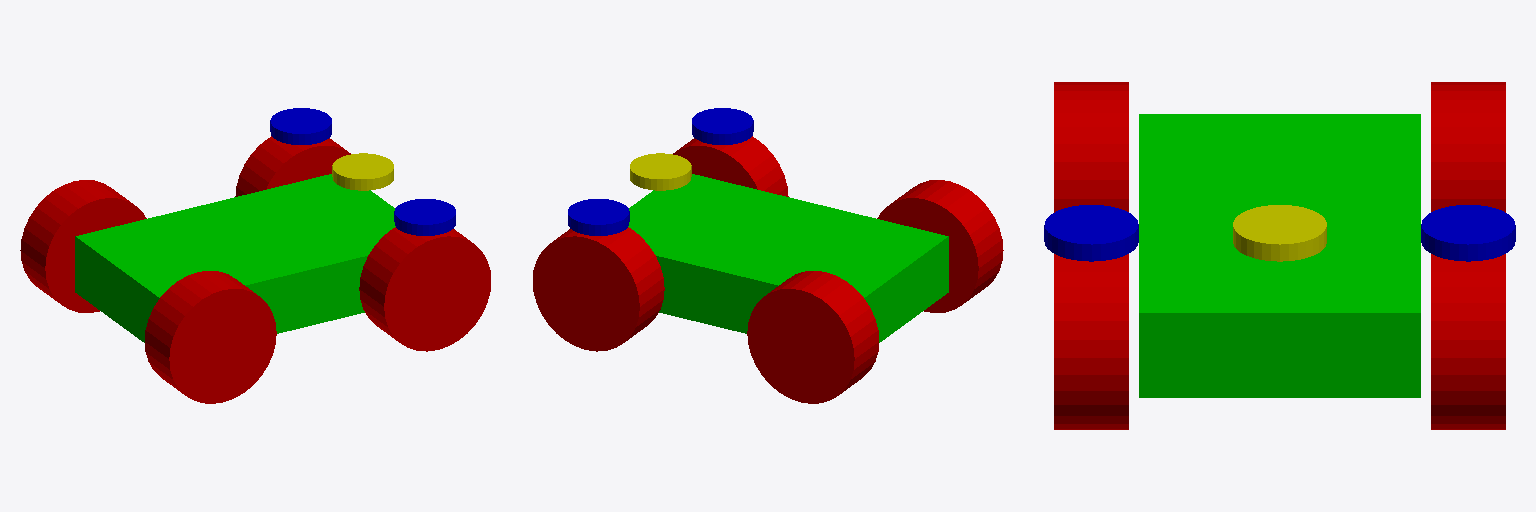
URDF robot description (steer_bot):
<?xml version="1.0" encoding="utf-8"?>
<!-- =================================================================================== -->
<!-- |    This document was autogenerated by xacro from [local-path]/github/steerbot_ws/src/steer_bot/steer_bot_description/urdf/steer_bot.urdf.xacro | -->
<!-- |    EDITING THIS FILE BY HAND IS NOT RECOMMENDED                                 | -->
<!-- =================================================================================== -->
<!--
  Robot model adapted from https://github.com/CIR-KIT/steer_drive_ros/blob/kinetic-devel/steer_drive_controller/test/common/urdf/steerbot.xacro

  Modifications:
    Remove base_footprint link. Useful for navigation but not necessary for a simple example.
    Added materials for URDF
    Updated inertials

  Geometry:
    The Ackermann steering controllers require the longitudinal
    separation between the front and back wheel axes and the
    lateral separation between the left and right front steering axes.
    
    For this model:
    wheel_separation_h = base_length - 2 * axle_offset = 0.4
    wheel_separation_w = base_width  + 2 * axle_offset = 0.4
-->
<robot name="steer_bot">
  <material name="red">
    <color rgba="0.8 0 0 1"/>
  </material>
  <material name="green">
    <color rgba="0 0.8 0 1"/>
  </material>
  <material name="blue">
    <color rgba="0 0 0.8 1"/>
  </material>
  <material name="yellow">
    <color rgba="0.8 0.8 0 1"/>
  </material>
  <material name="orange">
    <color rgba="0.8 0.25 0 1"/>
  </material>
  <material name="black">
    <color rgba="0 0 0 1"/>
  </material>
  <material name="dark_gray">
    <color rgba="0.5 0.5 0.5 1"/>
  </material>
  <material name="gray">
    <color rgba="0.753 0.753 0.753 1"/>
  </material>
  <material name="silver">
    <color rgba="0.88 0.88 0.88 1"/>
  </material>
  <material name="white">
    <color rgba="1 1 1 1"/>
  </material>
  <!-- Gazebo plugins -->
  <gazebo>
    <!-- Load ros_control plugin using the steer_bot_hardware_gazebo
    implementation of the hardware_interface::RobotHW -->
    <plugin filename="libgazebo_ros_control.so" name="gazebo_ros_control">
      <robotNamespace>/steer_bot</robotNamespace>
      <robotSimType>steer_bot_hardware_gazebo/SteerBotHardwareGazebo</robotSimType>
      <legacyModeNS>false</legacyModeNS>
    </plugin>
  </gazebo>
  <!-- Base link -->
  <link name="base_link">
    <visual>
      <origin rpy="0 0 0" xyz="0 0 0"/>
      <geometry>
        <box size="0.5 0.3 0.1"/>
      </geometry>
      <material name="green"/>
    </visual>
    <collision>
      <origin rpy="0 0 0" xyz="0 0 0"/>
      <geometry>
        <box size="0.5 0.3 0.1"/>
      </geometry>
    </collision>
    <inertial>
      <origin rpy="0 0 0" xyz="0 0 0"/>
      <mass value="5"/>
      <inertia ixx="0.0416666666667" ixy="0.0" ixz="0.0" iyy="0.108333333333" iyz="0.0" izz="0.141666666667"/>
    </inertial>
  </link>
  <link name="front_steer_link">
    <visual>
      <origin rpy="0 0 0" xyz="0 0 0"/>
      <geometry>
        <cylinder length="0.02" radius="0.05"/>
      </geometry>
      <material name="yellow"/>
    </visual>
    <collision>
      <origin rpy="0 0 0" xyz="0 0 0"/>
      <geometry>
        <cylinder length="0.02" radius="0.05"/>
      </geometry>
    </collision>
    <inertial>
      <origin rpy="0 0 0" xyz="0 0 0"/>
      <mass value="1"/>
      <inertia ixx="0.000658333333333" ixy="0.0" ixz="0.0" iyy="0.000658333333333" iyz="0.0" izz="0.00125"/>
    </inertial>
  </link>
  <joint name="front_steer_joint" type="revolute">
    <parent link="base_link"/>
    <child link="front_steer_link"/>
    <origin rpy="0 0 0" xyz="0.2 0 0.12"/>
    <axis xyz="0 0 1"/>
    <limit effort="10.0" lower="-3.14159265359" upper="3.14159265359" velocity="5.0"/>
  </joint>
  <transmission name="front_steer_joint_trans">
    <type>transmission_interface/SimpleTransmission</type>
    <actuator name="front_steer_joint_motor">
      <mechanicalReduction>1</mechanicalReduction>
      <hardwareInterface>hardware_interface/PositionJointInterface</hardwareInterface>
    </actuator>
    <joint name="front_steer_joint">
      <hardwareInterface>hardware_interface/PositionJointInterface</hardwareInterface>
    </joint>
  </transmission>
  <gazebo reference="front_steer_link">
    <material>Gazebo/Yellow</material>
  </gazebo>
  <link name="rear_wheel_link">
    <visual>
      <origin rpy="0 0 0" xyz="0 0 0"/>
      <geometry>
        <cylinder length="0.04" radius="0.025"/>
      </geometry>
      <material name="yellow"/>
    </visual>
    <collision>
      <origin rpy="0 0 0" xyz="0 0 0"/>
      <geometry>
        <cylinder length="0.04" radius="0.025"/>
      </geometry>
    </collision>
    <inertial>
      <origin rpy="0 0 0" xyz="0 0 0"/>
      <mass value="0.03125"/>
      <inertia ixx="9.04947916667e-06" ixy="0.0" ixz="0.0" iyy="9.04947916667e-06" iyz="0.0" izz="9.765625e-06"/>
    </inertial>
  </link>
  <joint name="rear_wheel_joint" type="continuous">
    <parent link="base_link"/>
    <child link="rear_wheel_link"/>
    <origin rpy="-1.57079632679 0 0" xyz="-0.2 0 0"/>
    <axis xyz="0 0 1"/>
  </joint>
  <transmission name="rear_wheel_joint_trans">
    <type>transmission_interface/SimpleTransmission</type>
    <actuator name="rear_wheel_joint_motor">
      <mechanicalReduction>1</mechanicalReduction>
      <hardwareInterface>hardware_interface/VelocityJointInterface</hardwareInterface>
    </actuator>
    <joint name="rear_wheel_joint">
      <hardwareInterface>hardware_interface/VelocityJointInterface</hardwareInterface>
    </joint>
  </transmission>
  <gazebo reference="rear_wheel_link">
    <material>Gazebo/Yellow</material>
  </gazebo>
  <link name="front_right_steer_link">
    <visual>
      <origin rpy="0 0 0" xyz="0 0 0"/>
      <geometry>
        <cylinder length="0.02" radius="0.05"/>
      </geometry>
      <material name="blue"/>
    </visual>
    <collision>
      <origin rpy="0 0 0" xyz="0 0 0"/>
      <geometry>
        <cylinder length="0.02" radius="0.05"/>
      </geometry>
    </collision>
    <inertial>
      <origin rpy="0 0 0" xyz="0 0 0"/>
      <mass value="1"/>
      <inertia ixx="0.000658333333333" ixy="0.0" ixz="0.0" iyy="0.000658333333333" iyz="0.0" izz="0.00125"/>
    </inertial>
  </link>
  <joint name="front_right_steer_joint" type="revolute">
    <parent link="base_link"/>
    <child link="front_right_steer_link"/>
    <origin rpy="0 0 0" xyz="0.2 -0.2 0.12"/>
    <axis xyz="0 0 1"/>
    <limit effort="10.0" lower="-0.785398163397" upper="0.785398163397" velocity="5.0"/>
  </joint>
  <link name="front_right_wheel_link">
    <visual>
      <origin rpy="0 0 0" xyz="0 0 0"/>
      <geometry>
        <cylinder length="0.08" radius="0.1"/>
      </geometry>
      <material name="red"/>
    </visual>
    <collision>
      <origin rpy="0 0 0" xyz="0 0 0"/>
      <geometry>
        <cylinder length="0.08" radius="0.1"/>
      </geometry>
    </collision>
    <inertial>
      <origin rpy="0 0 0" xyz="0 0 0"/>
      <mass value="1"/>
      <inertia ixx="0.00303333333333" ixy="0.0" ixz="0.0" iyy="0.00303333333333" iyz="0.0" izz="0.005"/>
    </inertial>
  </link>
  <joint name="front_right_wheel_joint" type="continuous">
    <parent link="front_right_steer_link"/>
    <child link="front_right_wheel_link"/>
    <origin rpy="-1.57079632679 0 0" xyz="0 0 -0.12"/>
    <axis xyz="0 0 1"/>
  </joint>
  <transmission name="front_right_steer_joint_trans">
    <type>transmission_interface/SimpleTransmission</type>
    <actuator name="front_right_steer_joint_motor">
      <mechanicalReduction>1</mechanicalReduction>
      <hardwareInterface>hardware_interface/PositionJointInterface</hardwareInterface>
    </actuator>
    <joint name="front_right_steer_joint">
      <hardwareInterface>hardware_interface/PositionJointInterface</hardwareInterface>
    </joint>
  </transmission>
  <transmission name="front_right_wheel_joint_trans">
    <type>transmission_interface/SimpleTransmission</type>
    <actuator name="front_right_wheel_joint_motor">
      <mechanicalReduction>1</mechanicalReduction>
      <hardwareInterface>hardware_interface/VelocityJointInterface</hardwareInterface>
    </actuator>
    <joint name="front_right_wheel_joint">
      <hardwareInterface>hardware_interface/VelocityJointInterface</hardwareInterface>
    </joint>
  </transmission>
  <gazebo reference="front_right_steer_link">
    <material>Gazebo/Blue</material>
  </gazebo>
  <gazebo reference="front_right_wheel_link">
    <material>Gazebo/Red</material>
  </gazebo>
  <link name="front_left_steer_link">
    <visual>
      <origin rpy="0 0 0" xyz="0 0 0"/>
      <geometry>
        <cylinder length="0.02" radius="0.05"/>
      </geometry>
      <material name="blue"/>
    </visual>
    <collision>
      <origin rpy="0 0 0" xyz="0 0 0"/>
      <geometry>
        <cylinder length="0.02" radius="0.05"/>
      </geometry>
    </collision>
    <inertial>
      <origin rpy="0 0 0" xyz="0 0 0"/>
      <mass value="1"/>
      <inertia ixx="0.000658333333333" ixy="0.0" ixz="0.0" iyy="0.000658333333333" iyz="0.0" izz="0.00125"/>
    </inertial>
  </link>
  <joint name="front_left_steer_joint" type="revolute">
    <parent link="base_link"/>
    <child link="front_left_steer_link"/>
    <origin rpy="0 0 0" xyz="0.2 0.2 0.12"/>
    <axis xyz="0 0 1"/>
    <limit effort="10.0" lower="-0.785398163397" upper="0.785398163397" velocity="5.0"/>
  </joint>
  <link name="front_left_wheel_link">
    <visual>
      <origin rpy="0 0 0" xyz="0 0 0"/>
      <geometry>
        <cylinder length="0.08" radius="0.1"/>
      </geometry>
      <material name="red"/>
    </visual>
    <collision>
      <origin rpy="0 0 0" xyz="0 0 0"/>
      <geometry>
        <cylinder length="0.08" radius="0.1"/>
      </geometry>
    </collision>
    <inertial>
      <origin rpy="0 0 0" xyz="0 0 0"/>
      <mass value="1"/>
      <inertia ixx="0.00303333333333" ixy="0.0" ixz="0.0" iyy="0.00303333333333" iyz="0.0" izz="0.005"/>
    </inertial>
  </link>
  <joint name="front_left_wheel_joint" type="continuous">
    <parent link="front_left_steer_link"/>
    <child link="front_left_wheel_link"/>
    <origin rpy="-1.57079632679 0 0" xyz="0 0 -0.12"/>
    <axis xyz="0 0 1"/>
  </joint>
  <transmission name="front_left_steer_joint_trans">
    <type>transmission_interface/SimpleTransmission</type>
    <actuator name="front_left_steer_joint_motor">
      <mechanicalReduction>1</mechanicalReduction>
      <hardwareInterface>hardware_interface/PositionJointInterface</hardwareInterface>
    </actuator>
    <joint name="front_left_steer_joint">
      <hardwareInterface>hardware_interface/PositionJointInterface</hardwareInterface>
    </joint>
  </transmission>
  <transmission name="front_left_wheel_joint_trans">
    <type>transmission_interface/SimpleTransmission</type>
    <actuator name="front_left_wheel_joint_motor">
      <mechanicalReduction>1</mechanicalReduction>
      <hardwareInterface>hardware_interface/VelocityJointInterface</hardwareInterface>
    </actuator>
    <joint name="front_left_wheel_joint">
      <hardwareInterface>hardware_interface/VelocityJointInterface</hardwareInterface>
    </joint>
  </transmission>
  <gazebo reference="front_left_steer_link">
    <material>Gazebo/Blue</material>
  </gazebo>
  <gazebo reference="front_left_wheel_link">
    <material>Gazebo/Red</material>
  </gazebo>
  <link name="rear_right_wheel_link">
    <visual>
      <origin rpy="0 0 0" xyz="0 0 0"/>
      <geometry>
        <cylinder length="0.08" radius="0.1"/>
      </geometry>
      <material name="red"/>
    </visual>
    <collision>
      <origin rpy="0 0 0" xyz="0 0 0"/>
      <geometry>
        <cylinder length="0.08" radius="0.1"/>
      </geometry>
    </collision>
    <inertial>
      <origin rpy="0 0 0" xyz="0 0 0"/>
      <mass value="1"/>
      <inertia ixx="0.00303333333333" ixy="0.0" ixz="0.0" iyy="0.00303333333333" iyz="0.0" izz="0.005"/>
    </inertial>
  </link>
  <joint name="rear_right_wheel_joint" type="continuous">
    <parent link="base_link"/>
    <child link="rear_right_wheel_link"/>
    <origin rpy="-1.57079632679 0 0" xyz="-0.2 -0.2 0"/>
    <axis xyz="0 0 1"/>
  </joint>
  <transmission name="rear_right_wheel_joint_trans">
    <type>transmission_interface/SimpleTransmission</type>
    <actuator name="rear_right_wheel_joint_motor">
      <mechanicalReduction>1</mechanicalReduction>
      <hardwareInterface>hardware_interface/VelocityJointInterface</hardwareInterface>
    </actuator>
    <joint name="rear_right_wheel_joint">
      <hardwareInterface>hardware_interface/VelocityJointInterface</hardwareInterface>
    </joint>
  </transmission>
  <gazebo reference="rear_right_wheel_link">
    <material>Gazebo/Red</material>
  </gazebo>
  <link name="rear_left_wheel_link">
    <visual>
      <origin rpy="0 0 0" xyz="0 0 0"/>
      <geometry>
        <cylinder length="0.08" radius="0.1"/>
      </geometry>
      <material name="red"/>
    </visual>
    <collision>
      <origin rpy="0 0 0" xyz="0 0 0"/>
      <geometry>
        <cylinder length="0.08" radius="0.1"/>
      </geometry>
    </collision>
    <inertial>
      <origin rpy="0 0 0" xyz="0 0 0"/>
      <mass value="1"/>
      <inertia ixx="0.00303333333333" ixy="0.0" ixz="0.0" iyy="0.00303333333333" iyz="0.0" izz="0.005"/>
    </inertial>
  </link>
  <joint name="rear_left_wheel_joint" type="continuous">
    <parent link="base_link"/>
    <child link="rear_left_wheel_link"/>
    <origin rpy="-1.57079632679 0 0" xyz="-0.2 0.2 0"/>
    <axis xyz="0 0 1"/>
  </joint>
  <transmission name="rear_left_wheel_joint_trans">
    <type>transmission_interface/SimpleTransmission</type>
    <actuator name="rear_left_wheel_joint_motor">
      <mechanicalReduction>1</mechanicalReduction>
      <hardwareInterface>hardware_interface/VelocityJointInterface</hardwareInterface>
    </actuator>
    <joint name="rear_left_wheel_joint">
      <hardwareInterface>hardware_interface/VelocityJointInterface</hardwareInterface>
    </joint>
  </transmission>
  <gazebo reference="rear_left_wheel_link">
    <material>Gazebo/Red</material>
  </gazebo>
  <!-- Colour -->
  <gazebo reference="base_link">
    <material>Gazebo/Green</material>
  </gazebo>
</robot>

--- Render facts (derived) ---
Views: 3 orthographic renders of the robot side by side, from view 1: azimuth 30°, elevation 25°; view 2: azimuth 150°, elevation 25°; view 3: azimuth 270°, elevation 25°.
Robot: steer_bot — 9 links, 8 joints (3 revolute, 5 continuous); root link base_link; default pose: every joint at zero.
Links seen in each view (by area): view 1: base_link, rear_right_wheel_link, front_right_wheel_link, rear_left_wheel_link, front_left_wheel_link, front_steer_link, front_right_steer_link, front_left_steer_link; view 2: base_link, rear_left_wheel_link, front_left_wheel_link, rear_right_wheel_link, front_right_wheel_link, front_steer_link, front_left_steer_link, front_right_steer_link; view 3: base_link, front_right_wheel_link, front_left_wheel_link, rear_right_wheel_link, rear_left_wheel_link, front_right_steer_link, front_left_steer_link, front_steer_link.
Boxes of the visible links, x1,y1,x2,y2 form: base_link: [75, 174, 395, 342]; rear_right_wheel_link: [145, 271, 276, 403]; front_right_wheel_link: [359, 227, 490, 351]; rear_left_wheel_link: [20, 180, 146, 312]; front_left_wheel_link: [235, 136, 350, 196]; front_steer_link: [332, 153, 393, 190]; front_right_steer_link: [394, 199, 455, 235]; front_left_steer_link: [270, 108, 331, 144]; base_link: [628, 174, 948, 342]; rear_left_wheel_link: [747, 271, 878, 403]; front_left_wheel_link: [533, 227, 664, 351]; rear_right_wheel_link: [877, 180, 1003, 312]; front_right_wheel_link: [673, 136, 788, 196]; front_steer_link: [630, 153, 691, 190]; front_left_steer_link: [568, 199, 629, 235]; front_right_steer_link: [692, 108, 753, 144]; base_link: [1139, 114, 1420, 397]; front_right_wheel_link: [1054, 254, 1128, 429]; front_left_wheel_link: [1431, 254, 1505, 429]; rear_right_wheel_link: [1054, 82, 1128, 212]; rear_left_wheel_link: [1431, 82, 1505, 212]; front_right_steer_link: [1044, 205, 1138, 261]; front_left_steer_link: [1421, 205, 1515, 261]; front_steer_link: [1233, 205, 1326, 261].
Bounding box of the posed robot: 0.6 × 0.5 × 0.23 m (x, y, z).
Geometry: primitives only (box / cylinder / sphere), no mesh files.